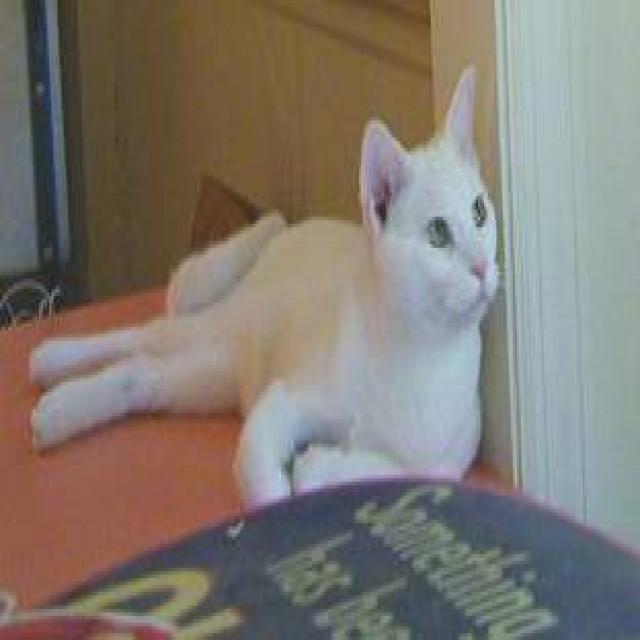cat: (26, 62, 498, 509)
